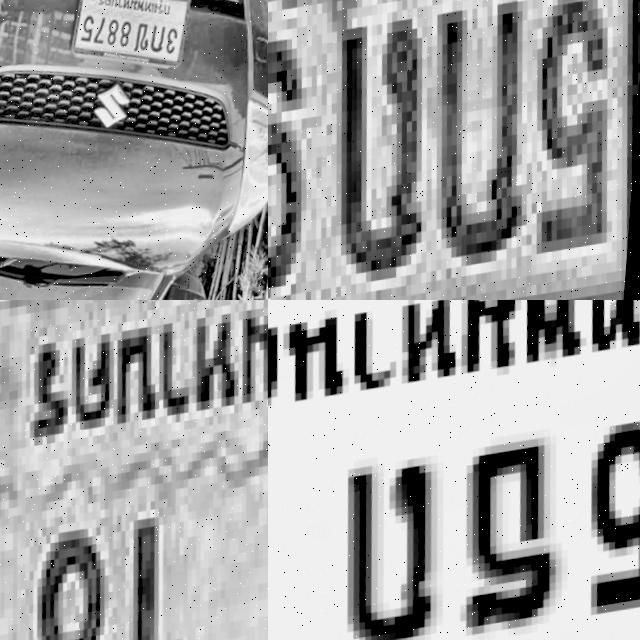license-plate: (268, 300, 640, 640), (268, 0, 640, 300), (0, 300, 268, 640), (62, 0, 204, 95)
